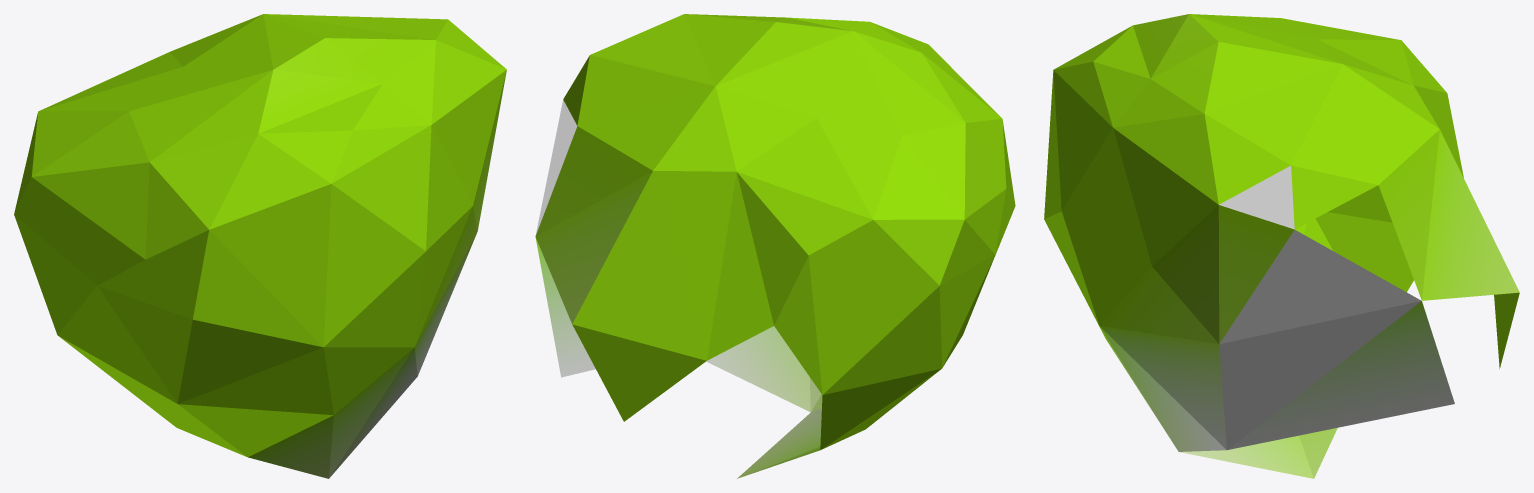
Rendered from tree1_LOD2.fbx.
3 renders of one model, left to right at view 1: azimuth 30°, elevation 25°; view 2: azimuth 150°, elevation 25°; view 3: azimuth 270°, elevation 25°, orthographic. The views are drawn at different scales.
Visible parts, largest first — view 1: Leaves1_Keen; view 2: Leaves1_Keen; view 3: Leaves1_Keen.
Part boxes in pixels (x1,y1,x2,y2): Leaves1_Keen: [14, 14, 506, 478]; Leaves1_Keen: [535, 14, 1015, 478]; Leaves1_Keen: [1044, 14, 1519, 478].
Size of the model in its own units: 2.99 by 2.94 by 2.88.
